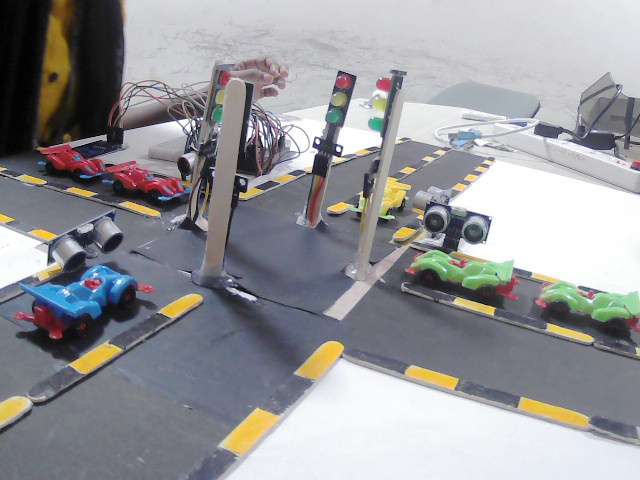car: (34, 276, 140, 342), (415, 245, 524, 305), (539, 275, 640, 338), (117, 156, 174, 219), (46, 140, 106, 197), (351, 170, 403, 229)
traffic_light: (216, 76, 255, 186), (320, 75, 351, 144), (372, 69, 390, 153), (213, 70, 226, 147)
uno_breadboard: (165, 115, 281, 180), (56, 211, 134, 267), (432, 200, 499, 257), (410, 179, 464, 223), (170, 141, 222, 180), (61, 138, 138, 156)
